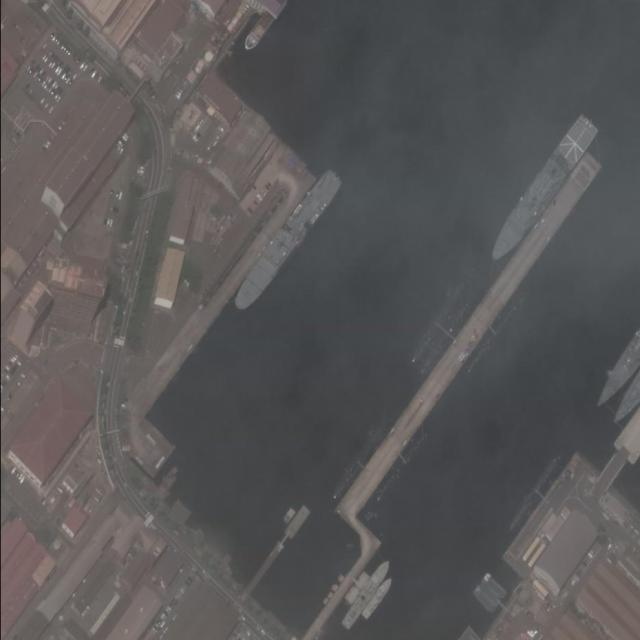Auxiliary Ships: (483, 114, 601, 266), (228, 167, 345, 317)
Dock: (334, 152, 604, 521), (306, 533, 378, 639), (245, 504, 310, 591)
Other Warship: (339, 557, 393, 630), (359, 574, 396, 622)
Submarine: (417, 297, 475, 376), (330, 422, 387, 502), (409, 285, 462, 366), (464, 298, 519, 375), (374, 428, 431, 502), (506, 456, 560, 531)
